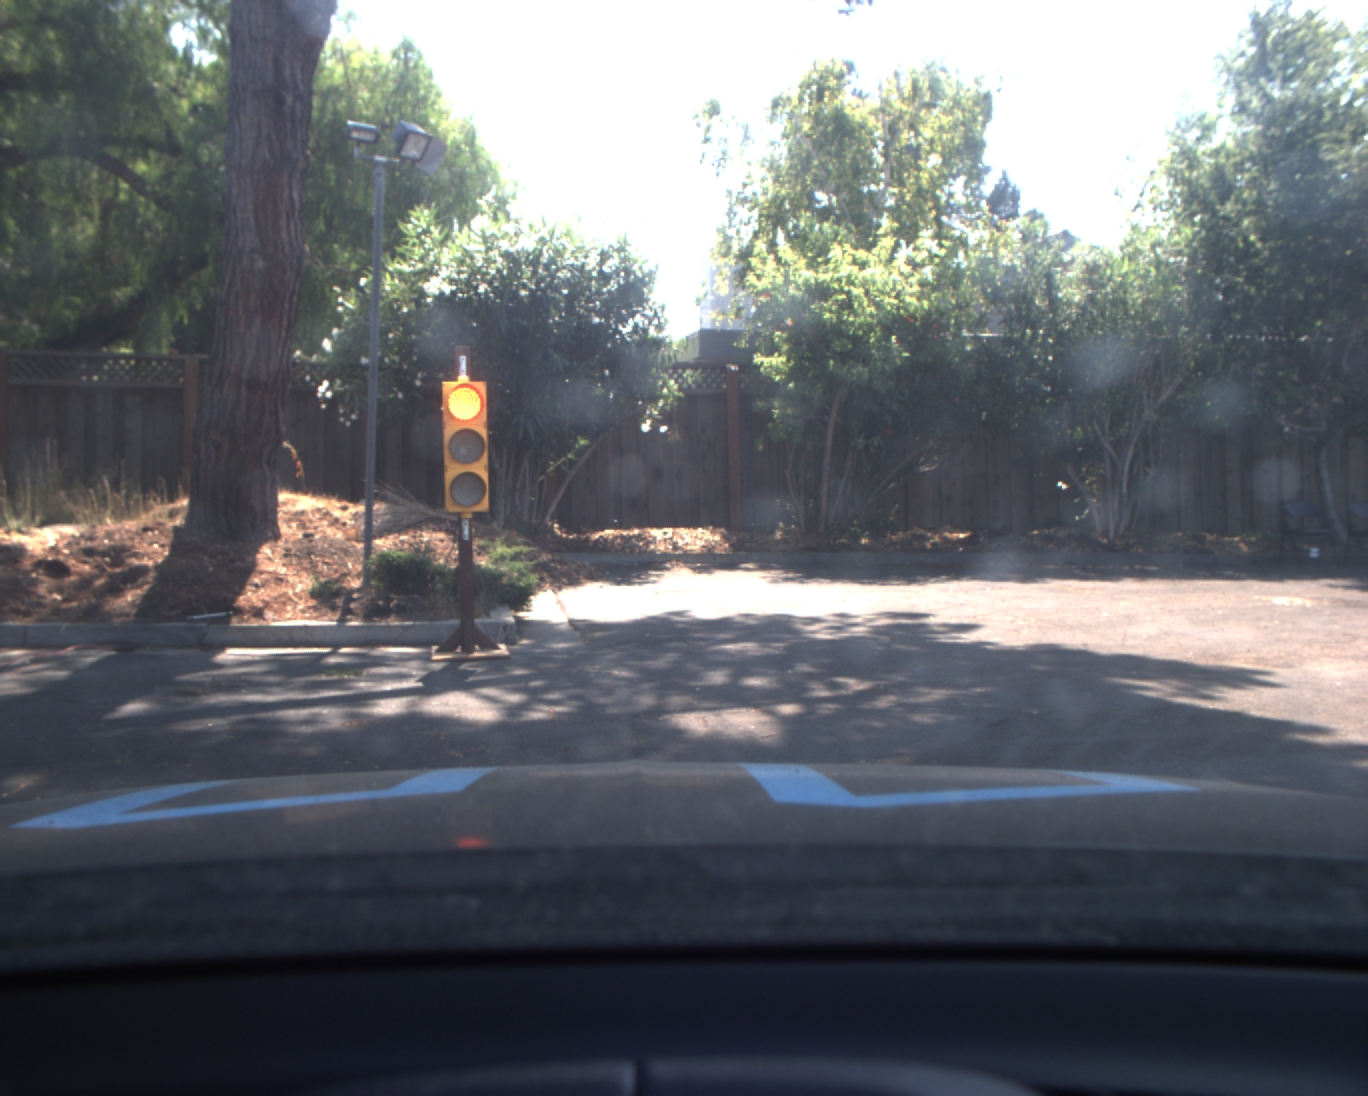red: (440, 381, 492, 515)
